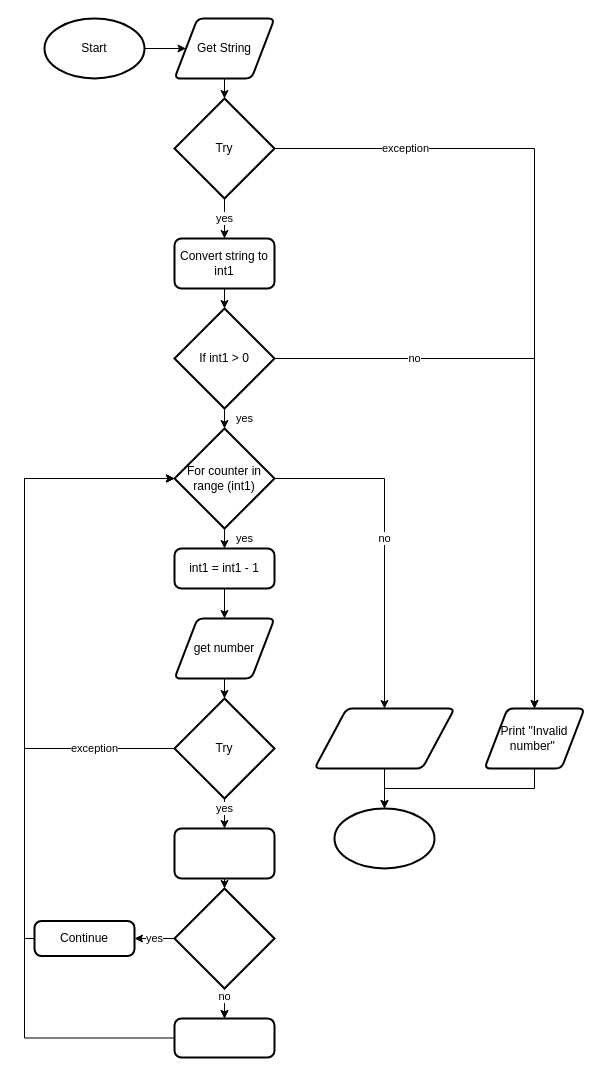
The diagram is 603 pixels wide and 1075 high, and some of its shapes have lost their labels. Here are the shapes that lost their labels. From the top down, the box of each, then its label:
(313, 707, 455, 769): print "Sum of the positive numbers is answer"
(173, 827, 275, 879): Convert string to int2
(333, 807, 435, 869): Stop
(173, 887, 275, 989): If int2 < 0
(173, 1017, 275, 1058): Answer = answer + int2
